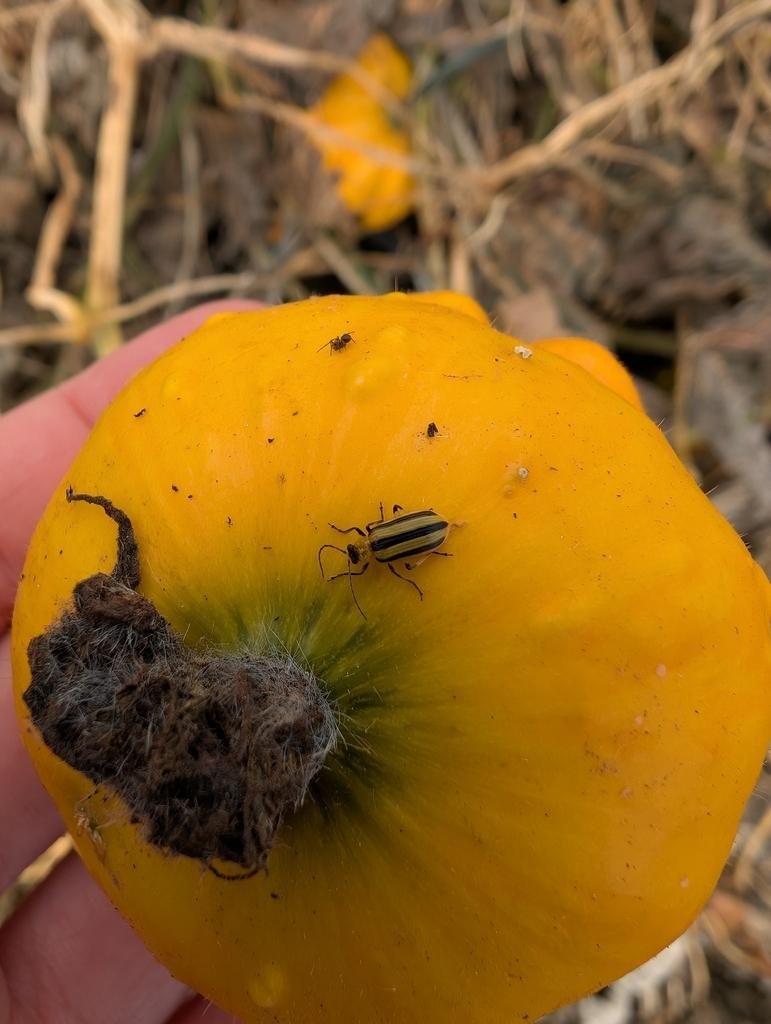potato_beetle: (300, 476, 474, 629)
